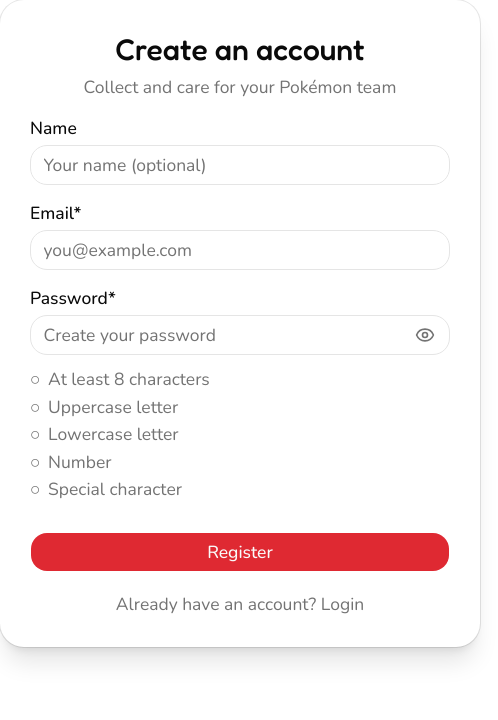
RegisterPage › shows the error returned by the action
The width and height of the screenshot is (498, 720).
In the field labelled "Email*": [240, 250] box 30,230 -> 450,270, type "ash@pallet.com"
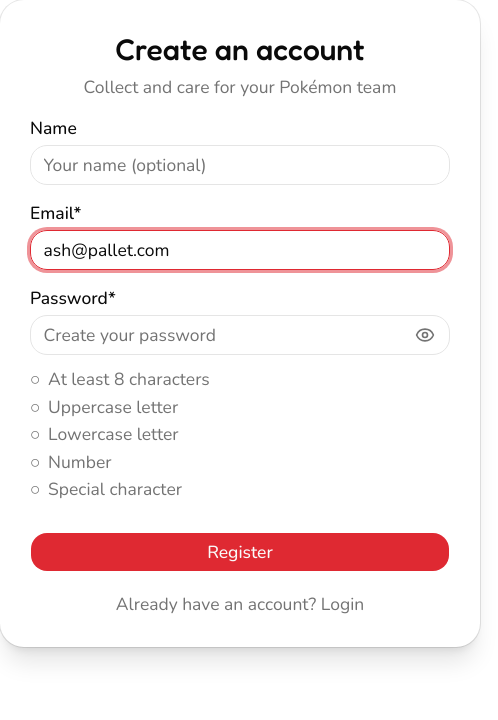
In the password field labelled "Password*": [240, 335] box 30,315 -> 450,355, type "Pikapika1!"
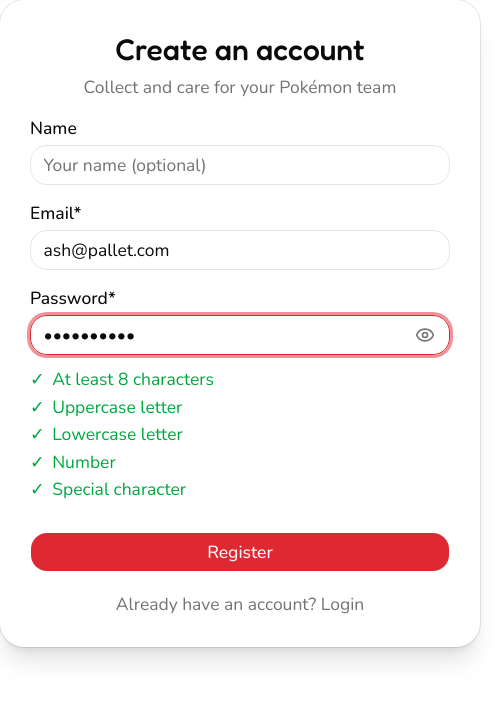
Click the button "Register": [240, 552] box 30,532 -> 450,572
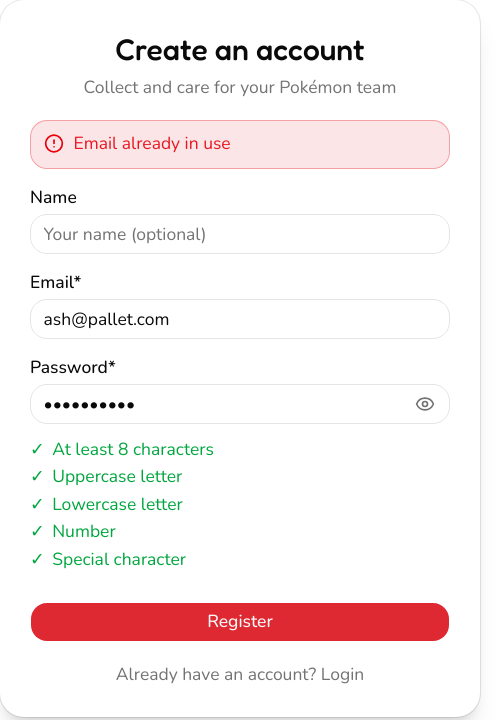
expect the text "Email already in use" is shown: met, box 74,131 -> 231,155
